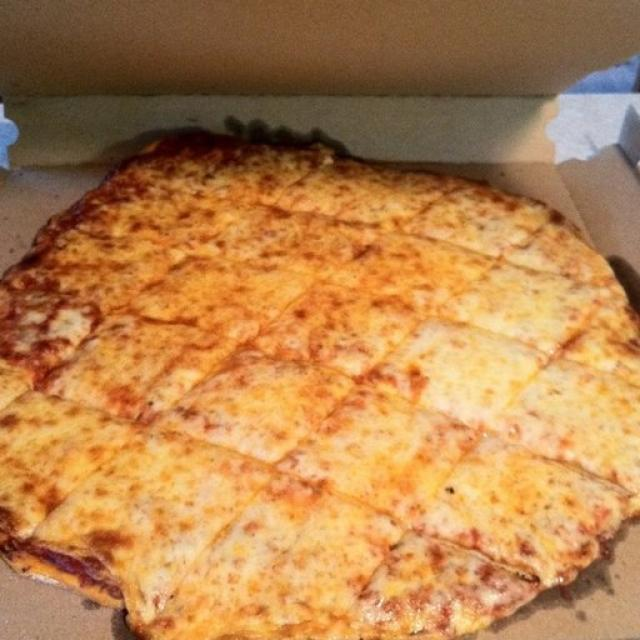Pizza: (0, 131, 640, 640)
